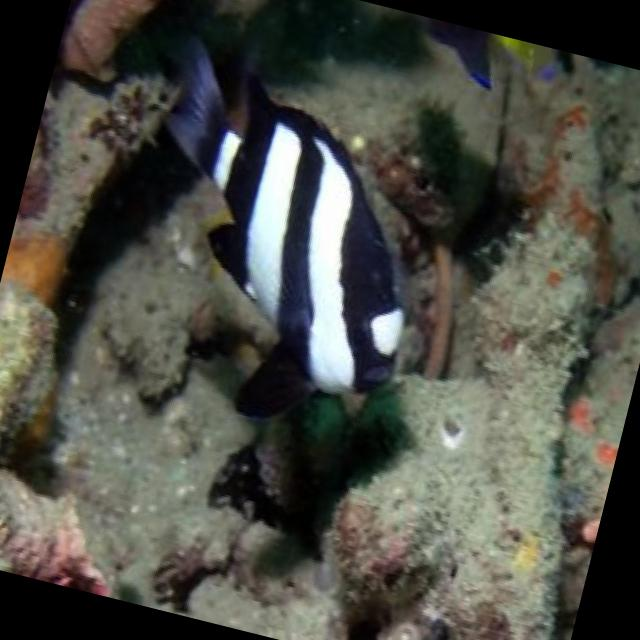Three_striped DasmselFish: (95, 29, 462, 448)
